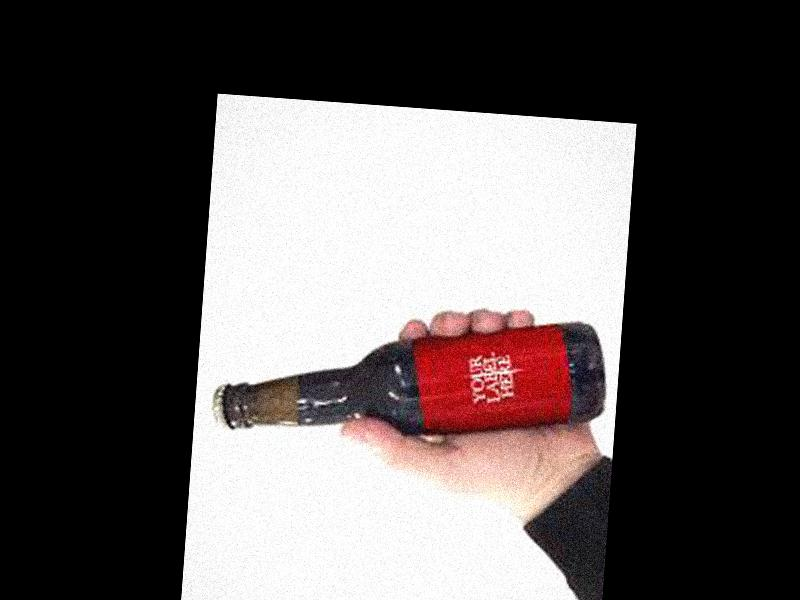Beer: (208, 294, 609, 459)
